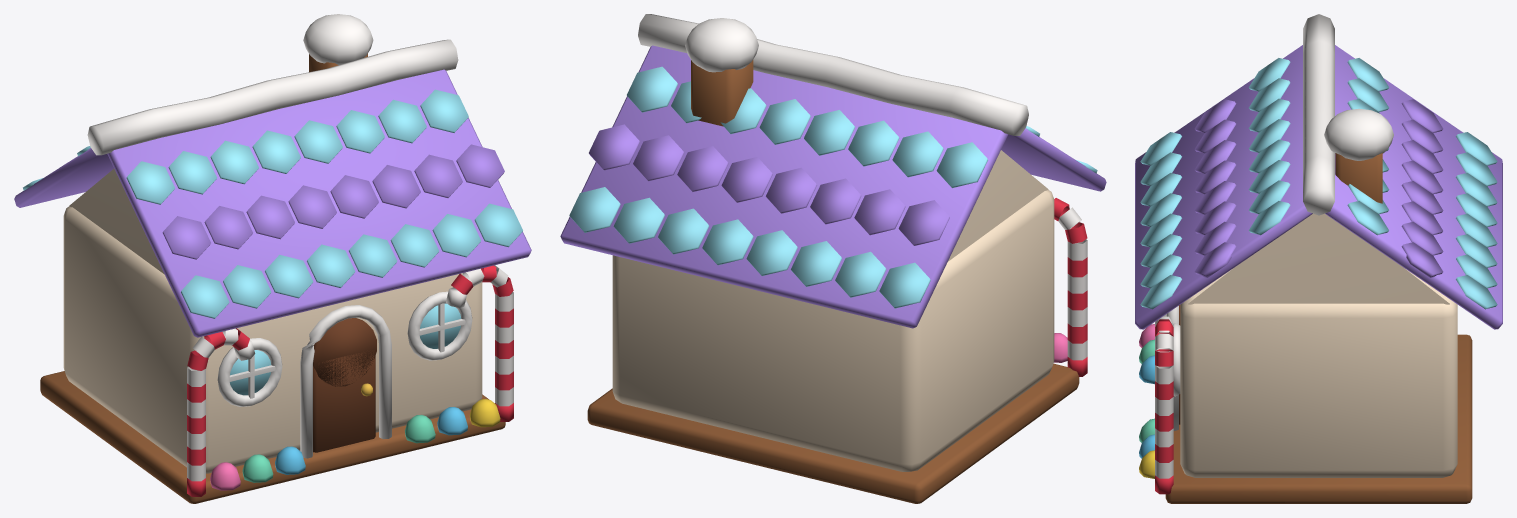
The model's file is candy_house_lilac.glb.
The picture shows the model from 3 angles, left to right: view 1: azimuth 30°, elevation 25°; view 2: azimuth 150°, elevation 25°; view 3: azimuth 270°, elevation 25°; orthographic projection. The views are drawn at different scales.
Parts seen in each view (by area): view 1: C_HouseLilac__C_lilac_2, C_HouseLilac__C_cream_8, C_HouseLilac__C_trim_lilac_5, C_HouseLilac__C_white_5, C_HouseLilac__C_choc_8, C_HouseLilac__C_choc_2, C_HouseLilac__C_white_2, C_HouseLilac__C_red_2, C_HouseLilac__C_aqua_2, C_HouseLilac__C_mint_2, C_HouseLilac__C_sky_2, C_HouseLilac__C_pink_2 (+1 smaller); view 2: C_HouseLilac__C_cream_8, C_HouseLilac__C_lilac_2, C_HouseLilac__C_trim_lilac_5, C_HouseLilac__C_choc_8, C_HouseLilac__C_white_5, C_HouseLilac__C_red_2, C_HouseLilac__C_white_2; view 3: C_HouseLilac__C_cream_8, C_HouseLilac__C_lilac_2, C_HouseLilac__C_trim_lilac_5, C_HouseLilac__C_choc_8, C_HouseLilac__C_white_5, C_HouseLilac__C_red_2, C_HouseLilac__C_white_2, C_HouseLilac__C_sky_2, C_HouseLilac__C_mint_2.
Part boxes in pixels (bbox=[...]): C_HouseLilac__C_lilac_2: bbox=[14, 69, 531, 337]; C_HouseLilac__C_cream_8: bbox=[63, 168, 482, 473]; C_HouseLilac__C_trim_lilac_5: bbox=[23, 89, 522, 318]; C_HouseLilac__C_white_5: bbox=[87, 14, 472, 458]; C_HouseLilac__C_choc_8: bbox=[40, 53, 505, 503]; C_HouseLilac__C_choc_2: bbox=[313, 318, 376, 452]; C_HouseLilac__C_white_2: bbox=[187, 265, 513, 481]; C_HouseLilac__C_red_2: bbox=[187, 265, 513, 496]; C_HouseLilac__C_aqua_2: bbox=[230, 303, 461, 395]; C_HouseLilac__C_mint_2: bbox=[242, 414, 435, 482]; C_HouseLilac__C_sky_2: bbox=[275, 407, 467, 474]; C_HouseLilac__C_pink_2: bbox=[210, 462, 240, 490]; C_HouseLilac__C_cream_8: bbox=[612, 150, 1054, 471]; C_HouseLilac__C_lilac_2: bbox=[560, 45, 1106, 328]; C_HouseLilac__C_trim_lilac_5: bbox=[569, 66, 1097, 308]; C_HouseLilac__C_choc_8: bbox=[587, 60, 1079, 503]; C_HouseLilac__C_white_5: bbox=[638, 14, 1028, 135]; C_HouseLilac__C_red_2: bbox=[1054, 198, 1087, 376]; C_HouseLilac__C_white_2: bbox=[1058, 207, 1087, 360]; C_HouseLilac__C_cream_8: bbox=[1180, 213, 1457, 477]; C_HouseLilac__C_lilac_2: bbox=[1135, 45, 1502, 329]; C_HouseLilac__C_trim_lilac_5: bbox=[1140, 58, 1497, 309]; C_HouseLilac__C_choc_8: bbox=[1165, 153, 1472, 503]; C_HouseLilac__C_white_5: bbox=[1166, 14, 1393, 430]; C_HouseLilac__C_red_2: bbox=[1155, 319, 1173, 494]; C_HouseLilac__C_white_2: bbox=[1155, 314, 1173, 478]; C_HouseLilac__C_sky_2: bbox=[1139, 355, 1154, 458]; C_HouseLilac__C_mint_2: bbox=[1139, 339, 1154, 442].
Size of the model in its own units: 5.62 by 5.42 by 5.04.
